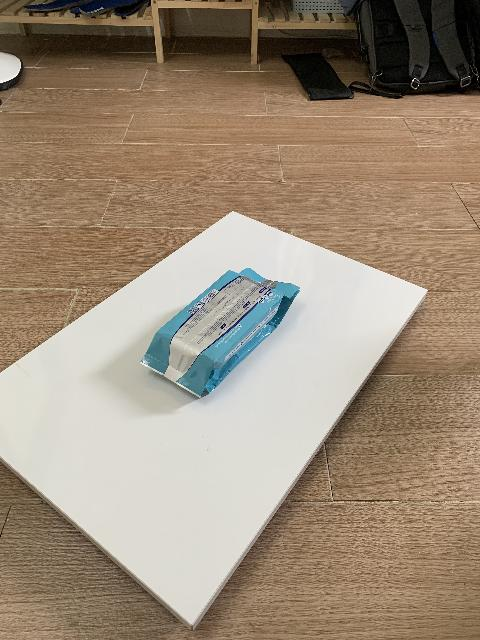Let-green_alcohol_wipes: (140, 268, 300, 399)
